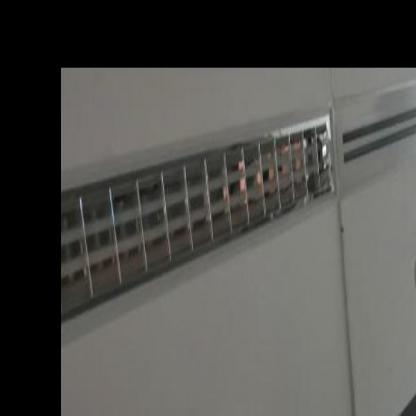light_off: (0, 101, 340, 352)
